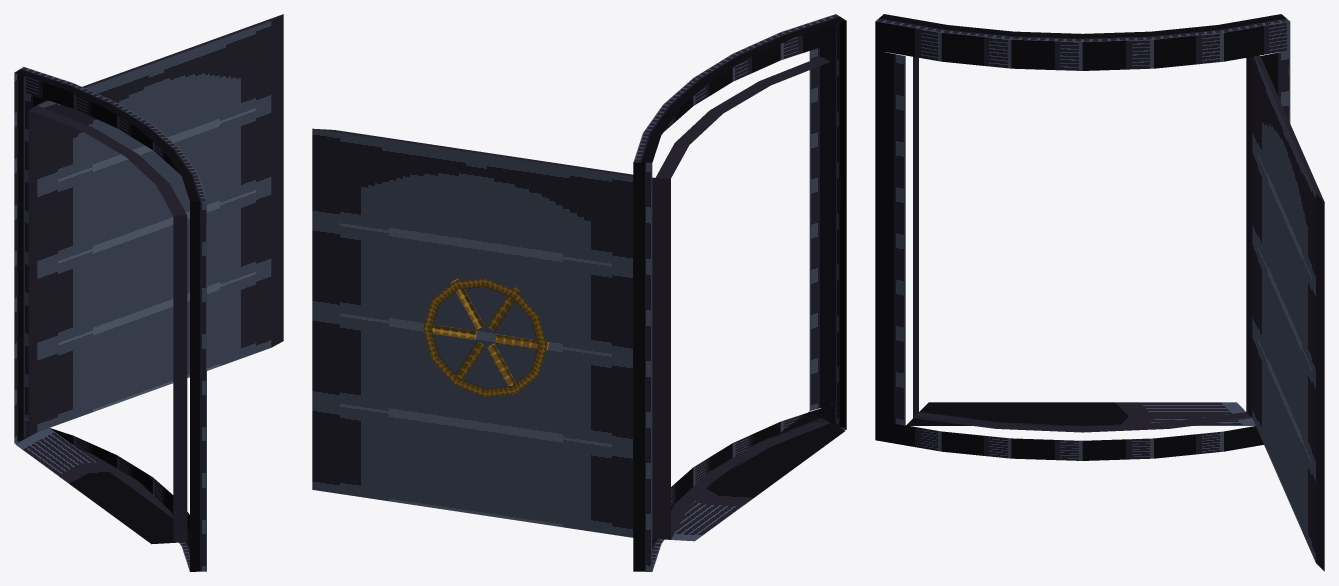
Rendered from SUB-03_Esclusa_de_fondo.gltf.
The picture shows the model from 3 angles, left to right: view 1: azimuth 30°, elevation 25°; view 2: azimuth 150°, elevation 25°; view 3: azimuth 270°, elevation 25°; orthographic projection. The views are drawn at different scales.
Visible parts, largest first — view 1: SUB-03_Esclusa_de_fondo-col; view 2: SUB-03_Esclusa_de_fondo-col; view 3: SUB-03_Esclusa_de_fondo-col.
Part boxes in pixels (left/top/right/bottom): SUB-03_Esclusa_de_fondo-col: left=14, top=14, right=283, bottom=571; SUB-03_Esclusa_de_fondo-col: left=312, top=14, right=846, bottom=571; SUB-03_Esclusa_de_fondo-col: left=875, top=14, right=1324, bottom=571.
Bounding box in the file's own units: 2.26 × 2.61 × 2.53.
Materials: 1 (1 with a texture image).
